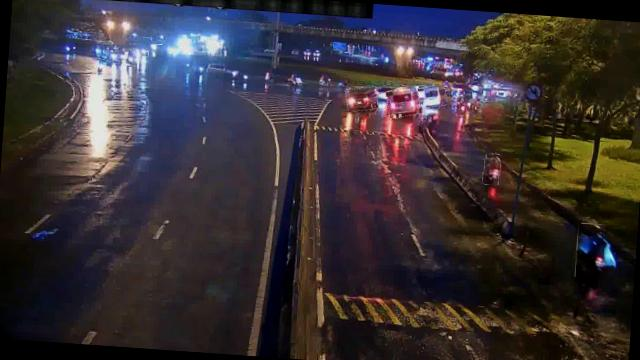Bike: (574, 223, 611, 279), (482, 152, 501, 185)
Bus: (384, 85, 422, 118), (417, 84, 447, 108)
Car: (345, 86, 379, 112)
